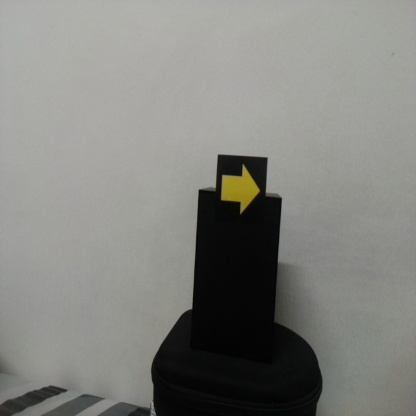id_3: (217, 156, 267, 226)
